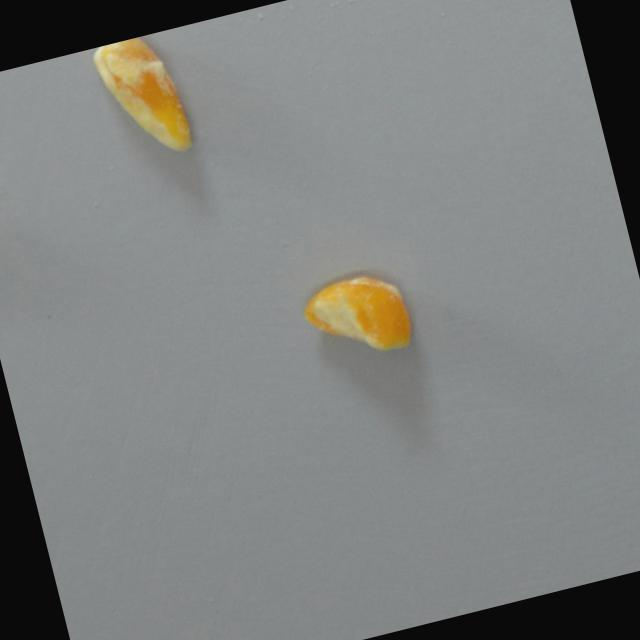dañado: (85, 28, 198, 171), (293, 261, 422, 373)
